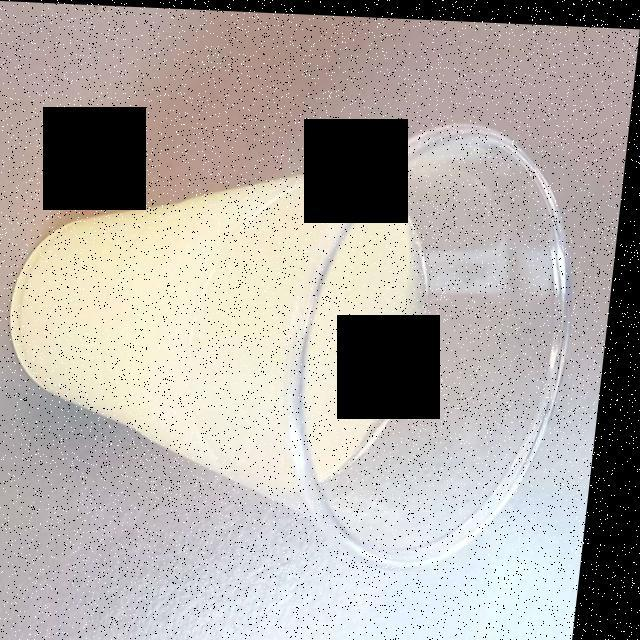water: (0, 167, 448, 492)
